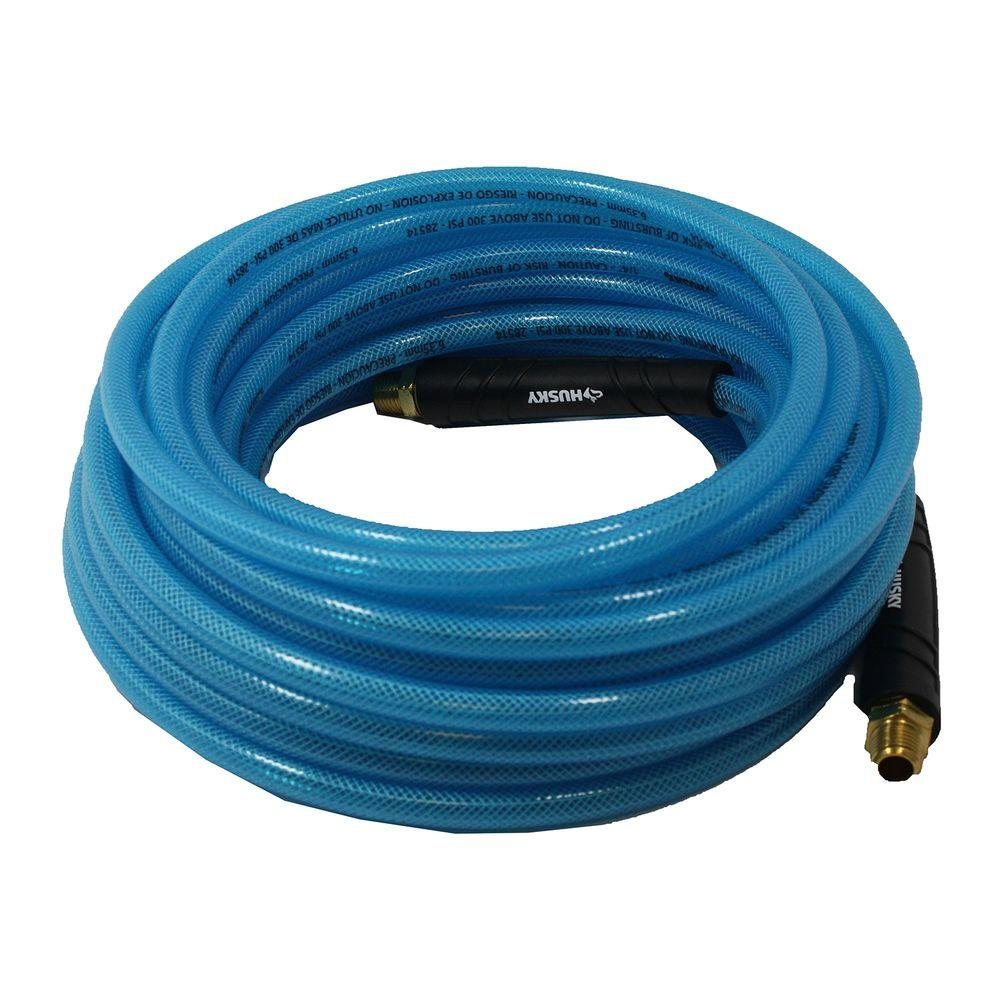Nonrec_Tangler: (29, 90, 946, 868)
